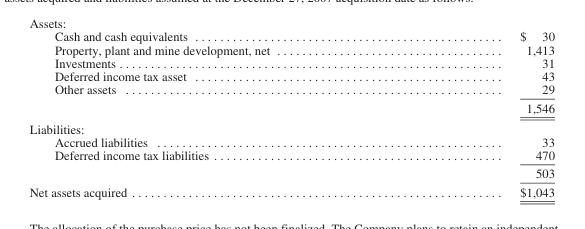table: (28, 29, 553, 198)
table column: (28, 29, 394, 198), (394, 29, 553, 198)
table projected row header: (28, 117, 553, 134)
table row: (28, 98, 553, 117), (28, 163, 553, 182), (28, 117, 553, 134), (28, 82, 553, 98), (28, 182, 553, 198), (28, 148, 553, 163), (28, 55, 553, 69), (28, 134, 553, 148), (28, 29, 553, 42), (28, 42, 553, 55), (28, 69, 553, 82)
